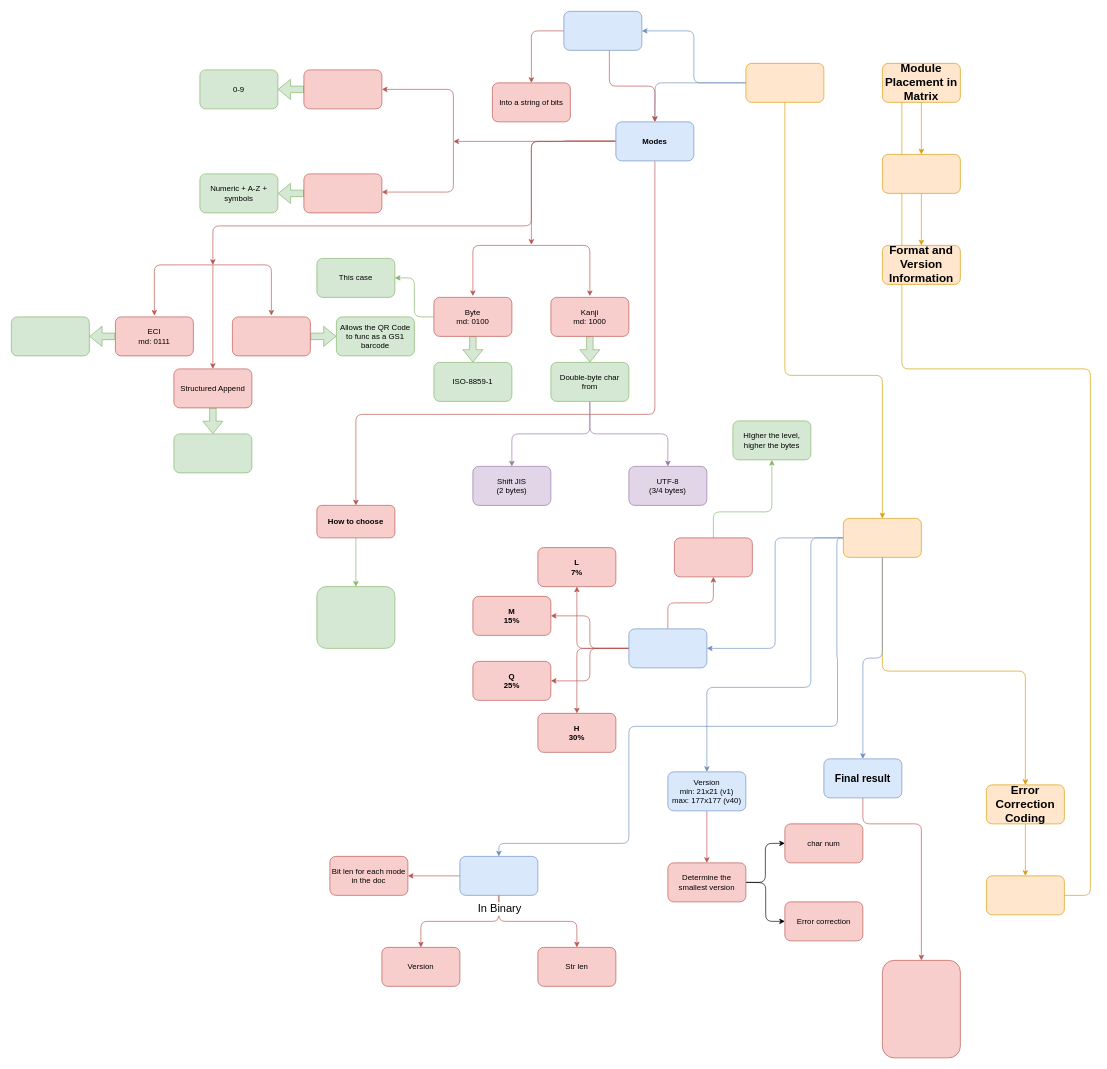
The diagram is 1107 pixels wide and 1069 high, and some of its shapes have lost their labels. Each missing label, with the box of its shape:
- Numeric - Alphanumeric - Byte - Kanji: (316, 586, 395, 648)
A qr code encodes:: (563, 11, 642, 50)
Alphanumeric md:0010: (303, 173, 382, 213)
Character count: (459, 856, 538, 895)
Data Analysis: (745, 63, 824, 102)
Data Encoding: (843, 518, 921, 557)
Data Masking: (882, 154, 960, 193)
Error Correction LVL: (628, 628, 707, 668)
FNC1: (232, 316, 310, 356)
mode indicator - char count - data bits of the str: (882, 960, 960, 1058)
More QR Codes (max=16): (173, 433, 252, 473)
Numeric md: 0001: (303, 69, 382, 109)
QR codes use Reed-Solomon error correction: (674, 537, 752, 577)
Specifies the char set: (11, 316, 89, 356)
Structure Final Message: (986, 875, 1064, 915)
